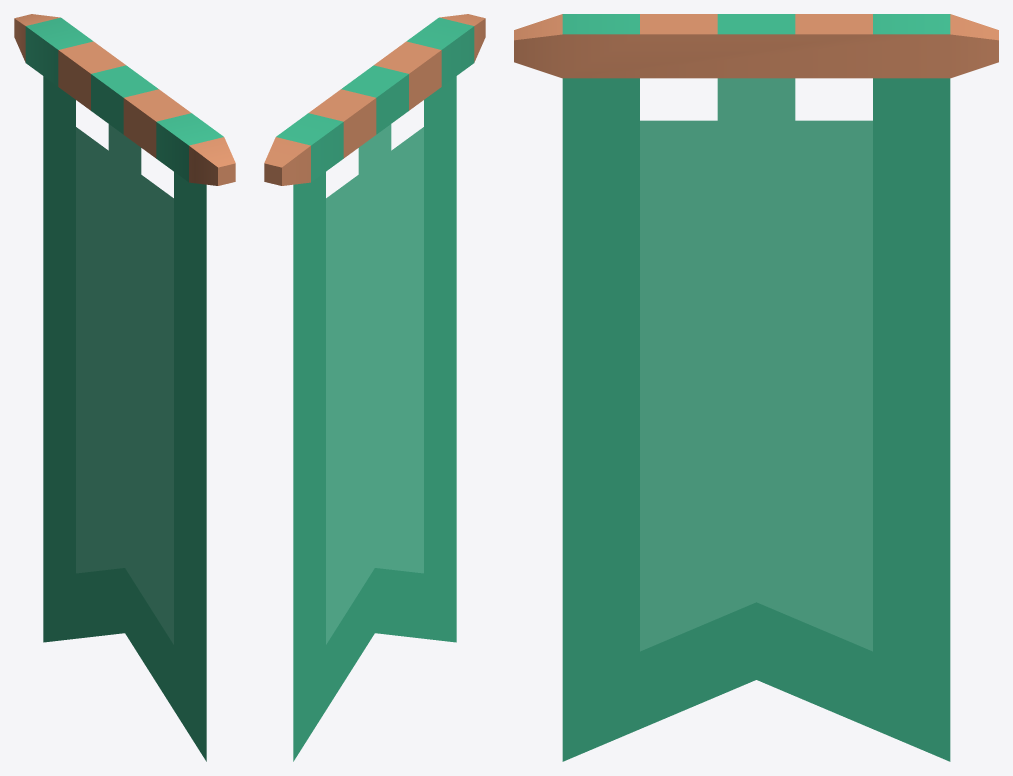
File: bannerGreen.obj
3 views of the same model, side by side, from view 1: azimuth 30°, elevation 25°; view 2: azimuth 150°, elevation 25°; view 3: azimuth 270°, elevation 25° (orthographic). The views are drawn at different scales.
Visible parts, largest first — view 1: bannerGreen; view 2: bannerGreen; view 3: bannerGreen.
Part boxes in pixels (x1=…): bannerGreen: x1=14, y1=14, x2=235, y2=761; bannerGreen: x1=264, y1=14, x2=485, y2=761; bannerGreen: x1=514, y1=14, x2=998, y2=761.
Bounding box in the file's own units: 0.05 × 0.8394 × 0.5.
